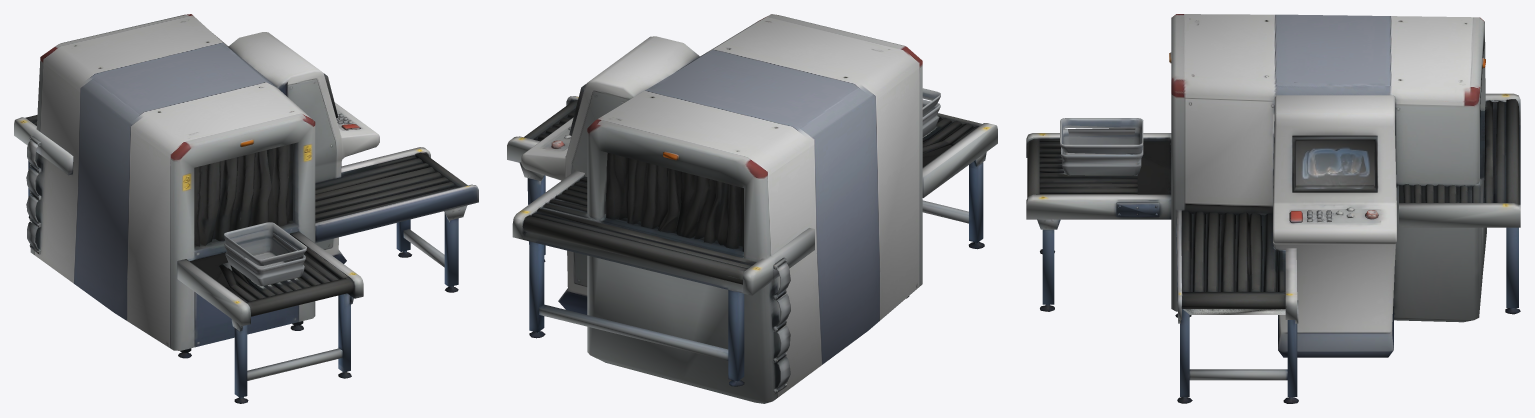
The model's file is scanner_bagagem.glb.
The picture shows the model from 3 angles, left to right: view 1: azimuth 30°, elevation 25°; view 2: azimuth 150°, elevation 25°; view 3: azimuth 270°, elevation 25°; orthographic projection. The views are drawn at different scales.
Parts seen in each view (by area): view 1: Scanner de bagagem completo; view 2: Scanner de bagagem completo; view 3: Scanner de bagagem completo.
Boxes of the visible parts, box(x1,y1,x2,y2) form: Scanner de bagagem completo: box(14, 14, 478, 403); Scanner de bagagem completo: box(507, 14, 997, 403); Scanner de bagagem completo: box(1026, 14, 1520, 403).
Bounding box in the file's own units: 0.834 × 0.5332 × 0.998.
Materials: 1 (1 with a texture image).
